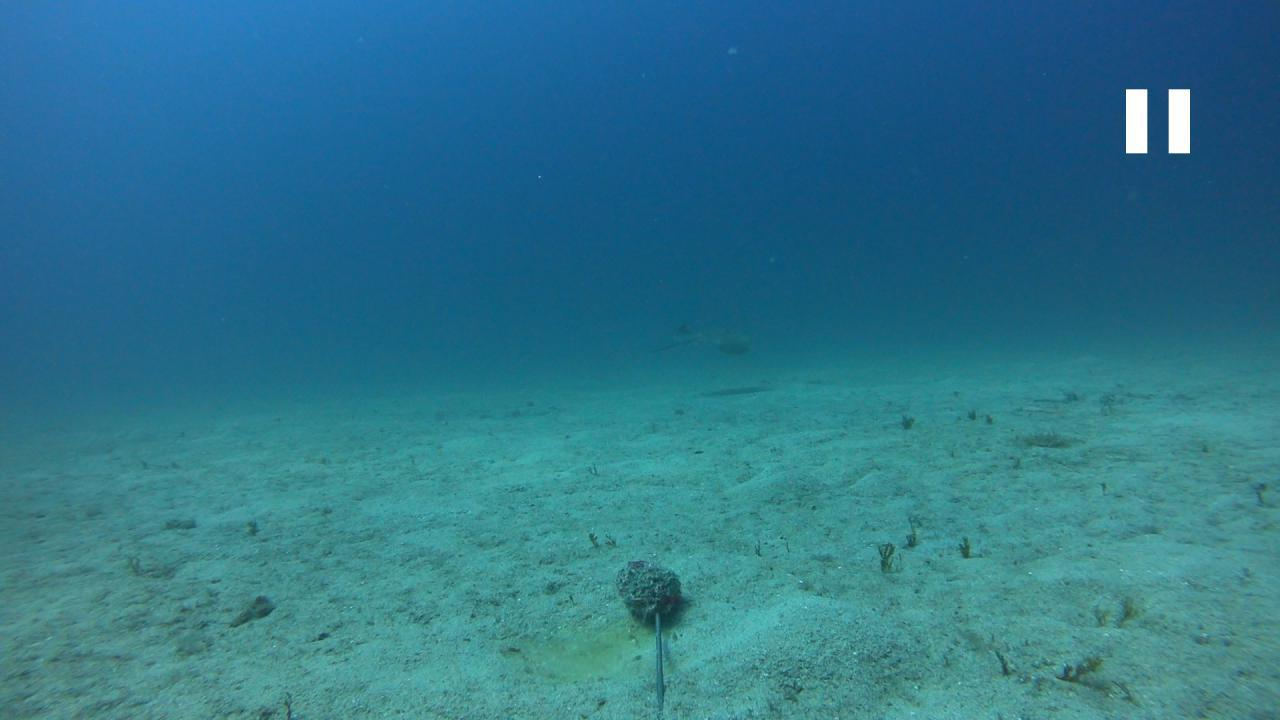dasyatis: (648, 322, 752, 358)
